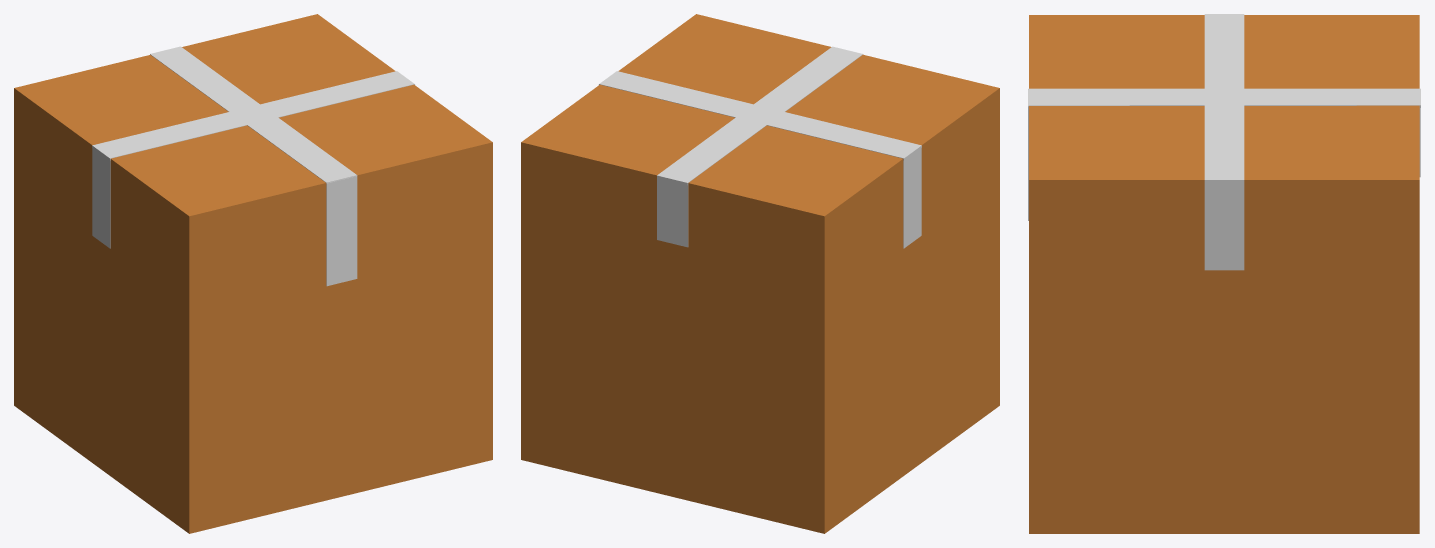
File: window 3.fbx
3 renders of one model, left to right at view 1: azimuth 30°, elevation 25°; view 2: azimuth 150°, elevation 25°; view 3: azimuth 270°, elevation 25°, orthographic. The views are drawn at different scales.
Parts seen in each view (by area): view 1: Куб, Куб.001, Куб.006, Куб.004, Куб.002; view 2: Куб, Куб.001, Куб.006, Куб.005, Куб.002; view 3: Куб, Куб.006, Куб.001, Куб.003.
Boxes of the visible parts, box(x1,y1,x2,y2) form: Куб: box(14, 14, 492, 533); Куб.001: box(92, 71, 414, 160); Куб.006: box(150, 46, 357, 183); Куб.004: box(326, 176, 357, 286); Куб.002: box(92, 148, 110, 248); Куб: box(521, 14, 999, 533); Куб.001: box(599, 71, 921, 160); Куб.006: box(657, 46, 863, 185); Куб.005: box(657, 178, 688, 247); Куб.002: box(903, 148, 921, 248); Куб: box(1029, 15, 1419, 533); Куб.006: box(1028, 88, 1420, 107); Куб.001: box(1204, 14, 1244, 180); Куб.003: box(1204, 180, 1244, 270).
Size of the model in its own units: 201 by 200 by 201.
